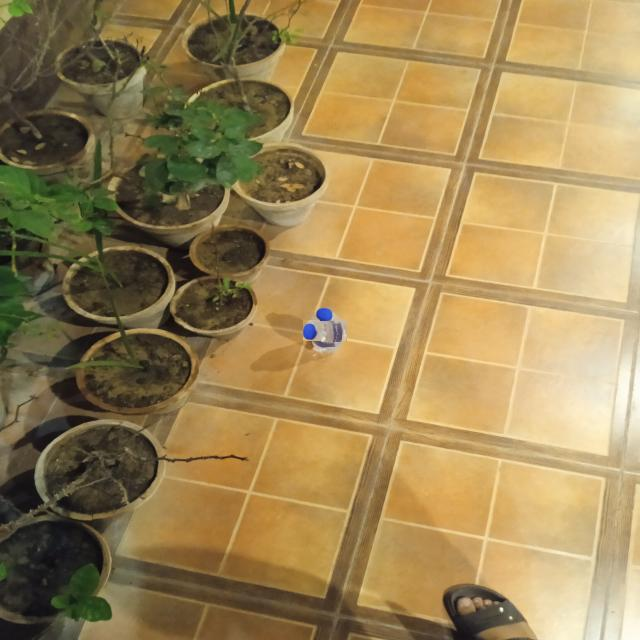Plastic: (308, 313, 342, 347)
